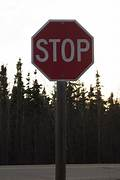stop: (30, 17, 94, 82)
